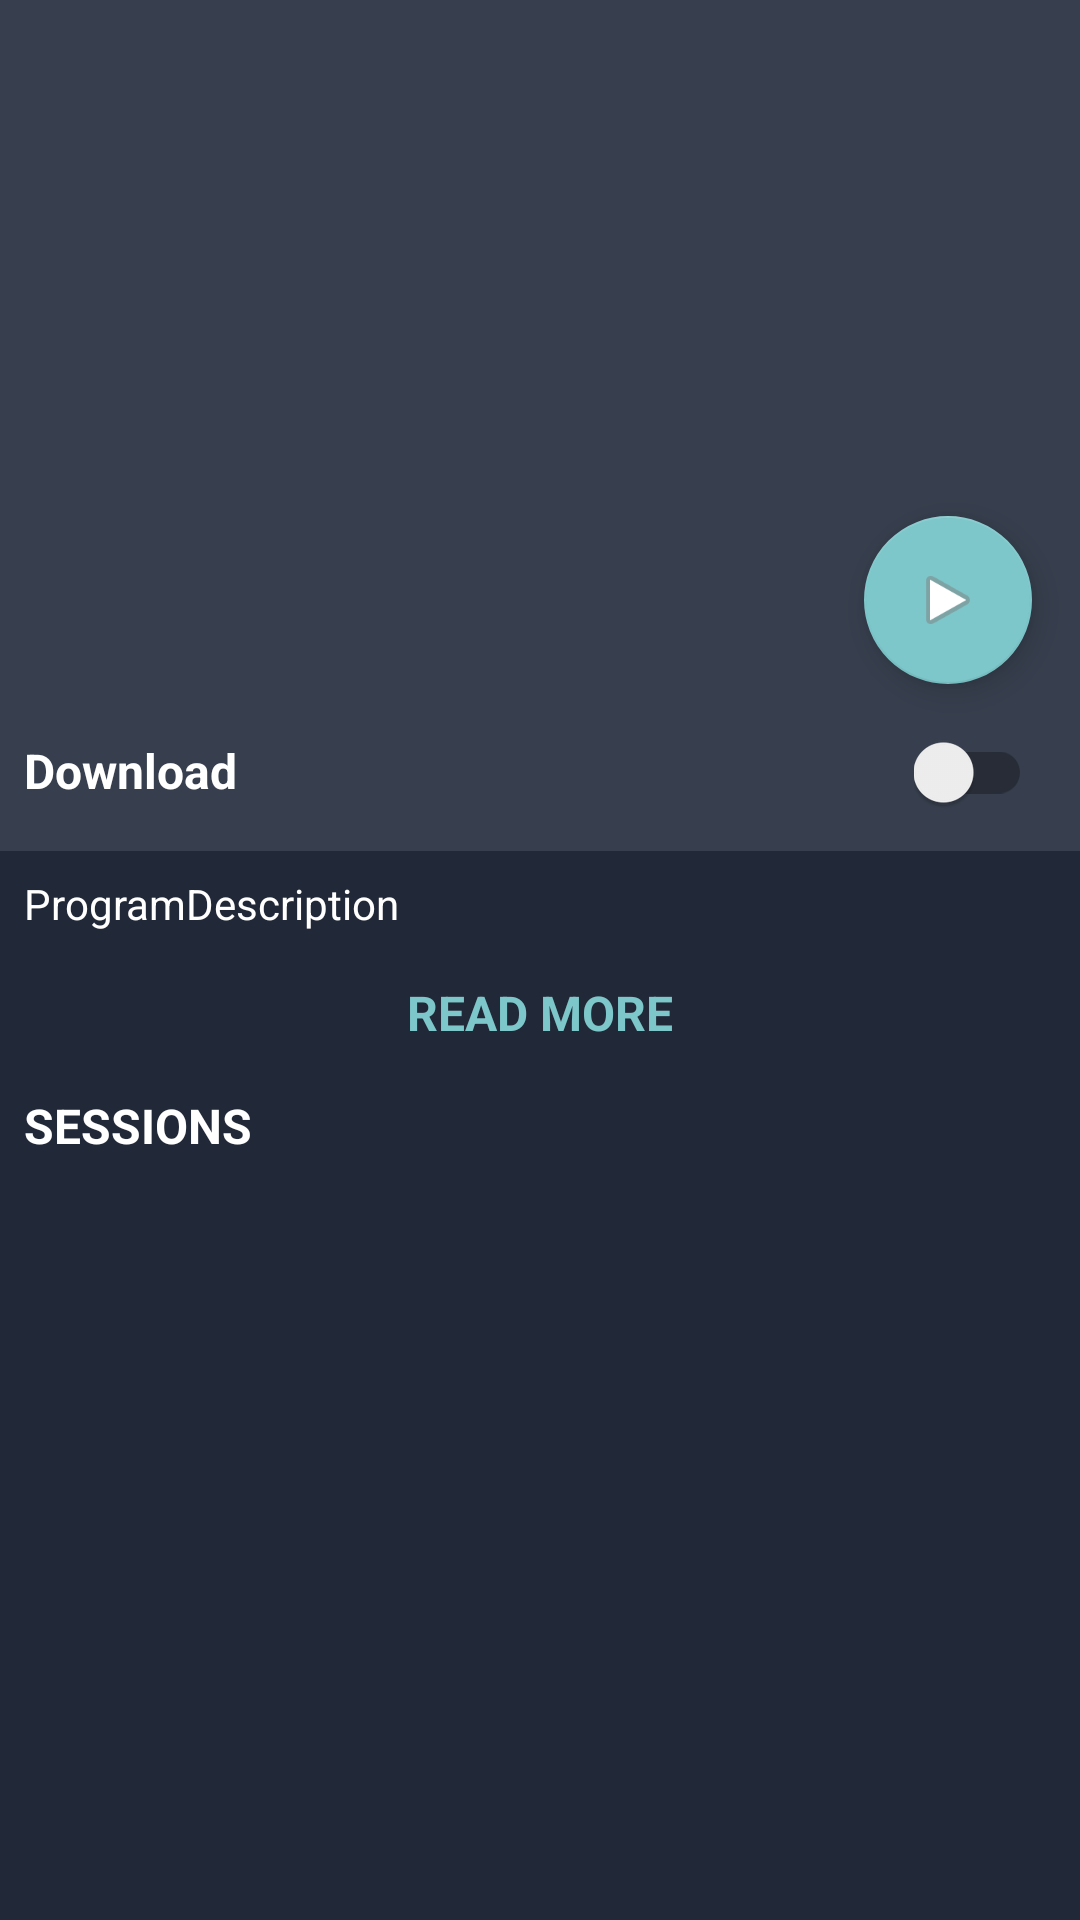

Locate icon controls on the screen. Image size 1080 × 1920, boxes as (x1, y1, x2, y2).
play: (864, 516, 1032, 684)
